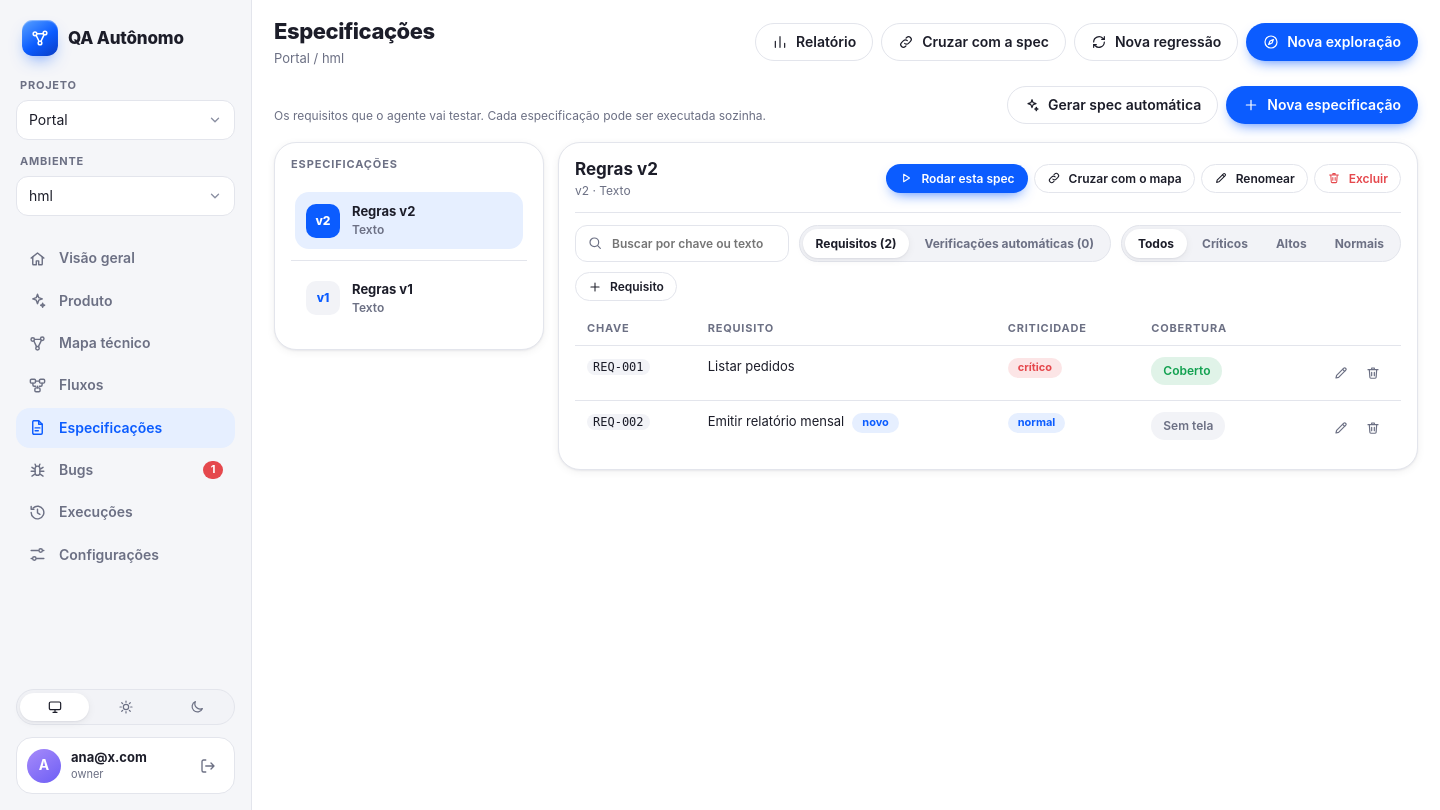
Test: especificações › mostra os requisitos de uma versão antiga, sem cobertura
Click the button "v1 Regras v1 Texto" at (409, 298), box x1=295 y1=270 x2=523 y2=326
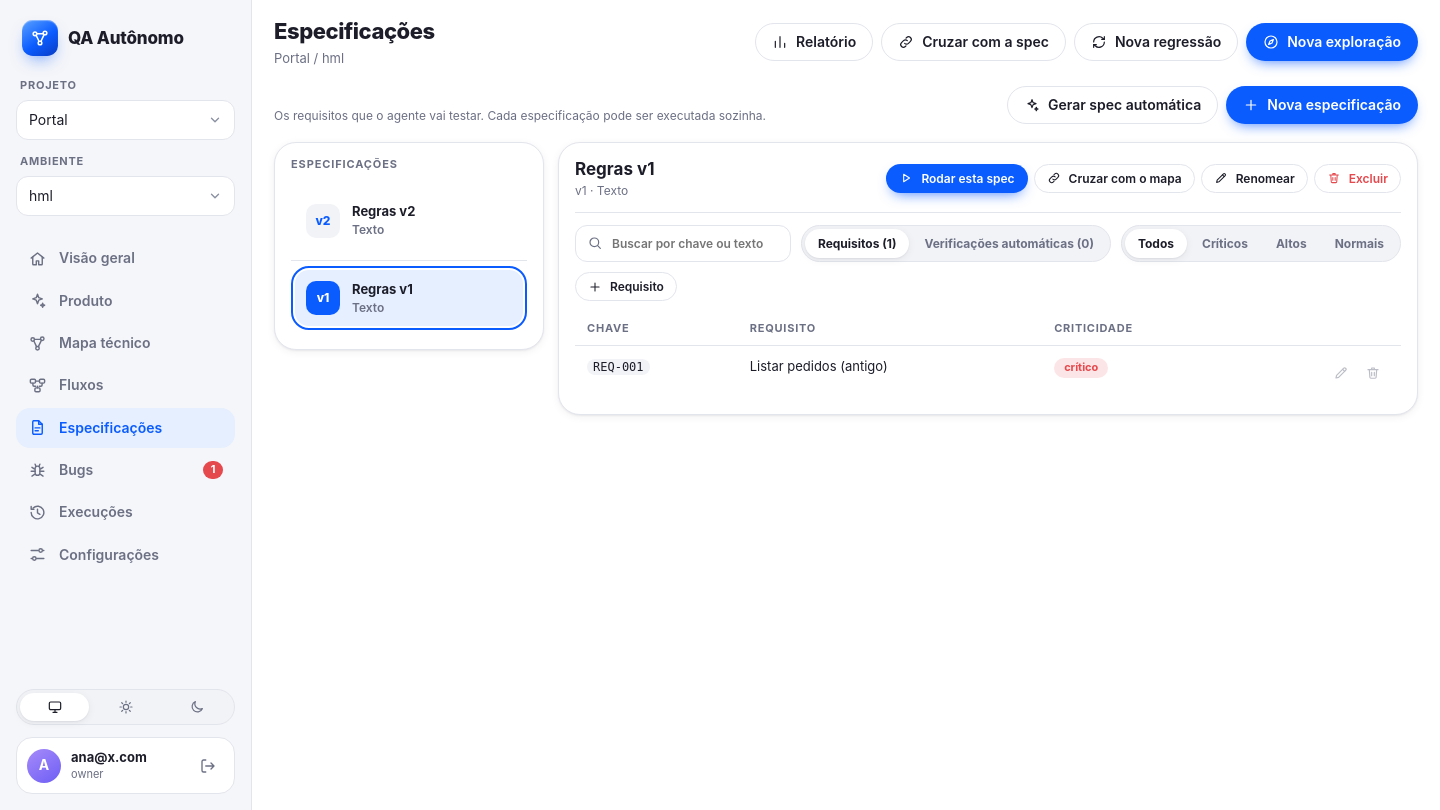
Now the text "Listar pedidos (antigo)" is shown, box x1=738 y1=346 x2=1042 y2=400
Now the text "Coberto" is gone
